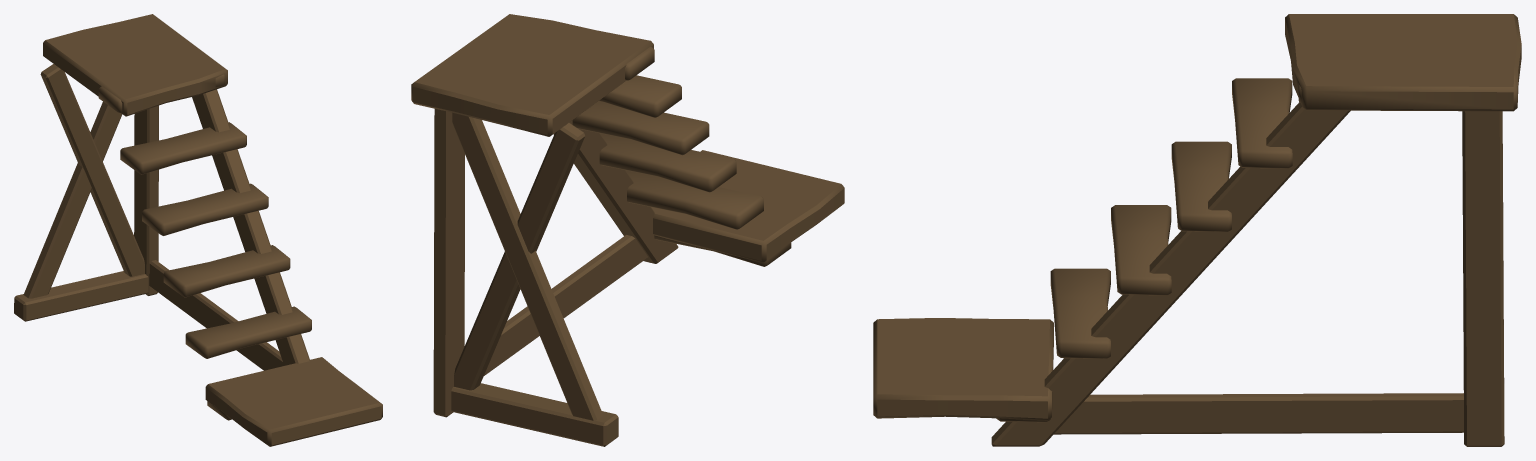
Rendered from Stairs.fbx.
3 renders of one model, left to right at view 1: azimuth 30°, elevation 25°; view 2: azimuth 150°, elevation 25°; view 3: azimuth 270°, elevation 25°, orthographic. The views are drawn at different scales.
Visible parts, largest first — view 1: Cube.034, Cube.028, Cube.029, Cube.038; view 2: Cube.034, Cube.029, Cube.028, Cube.038; view 3: Cube.034, Cube.029, Cube.028, Cube.038.
Part boxes in pixels (x1,y1,x2,y2): Cube.034: (14,64,309,370); Cube.028: (98,74,311,420); Cube.029: (43,14,227,116); Cube.038: (205,357,382,446); Cube.034: (433,109,678,446); Cube.029: (411,14,653,136); Cube.028: (572,47,791,266); Cube.038: (651,150,844,262); Cube.034: (991,102,1504,446); Cube.029: (1285,14,1521,111); Cube.028: (996,78,1301,422); Cube.038: (873,318,1053,420).
Bounding box in the file's own units: 1.66 × 2.78 × 4.44.
